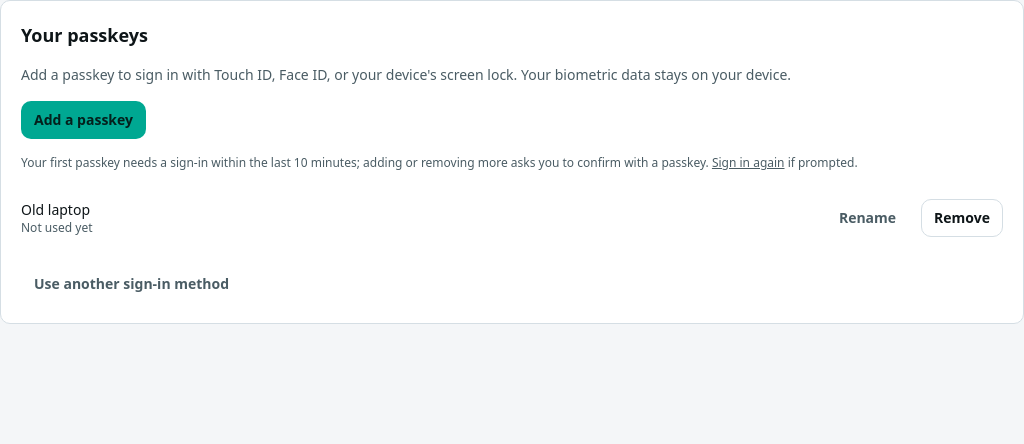
Scenario: adds a passkey under the device name and opens the new row for renaming
Click the button "Add a passkey": [84, 120] box [21,101,146,139]
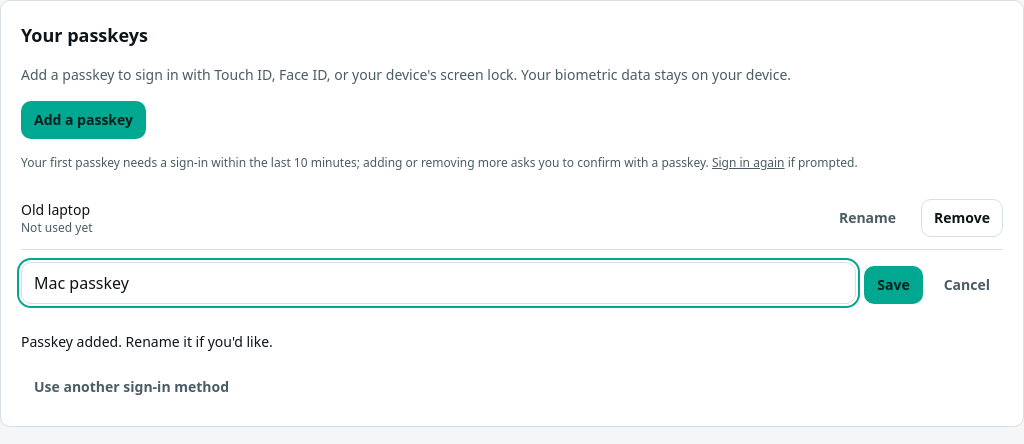
Now the message reads "Passkey added. Rename it if you'd like.", box [21,332,273,351]
Now the field named "New name for Mac passkey" holds "Mac passkey", box [21,262,856,304]
